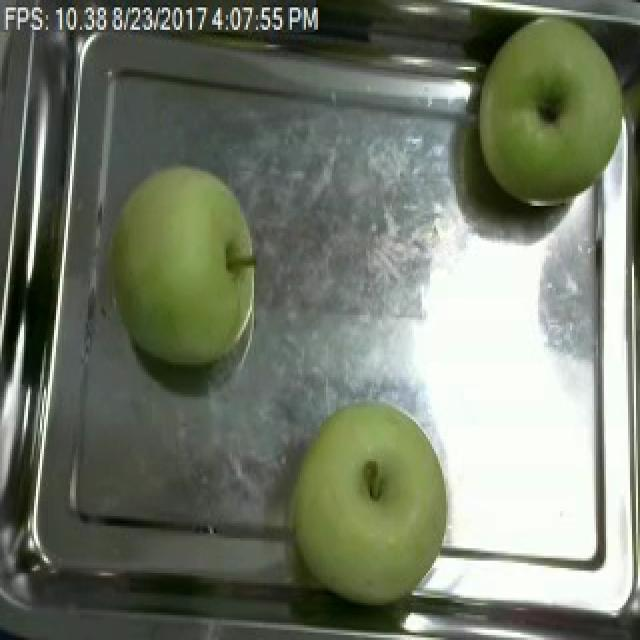50-_ripeness: (279, 398, 471, 619), (108, 158, 280, 378), (464, 13, 631, 225)
